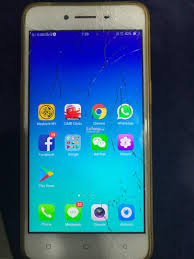oppo: (21, 4, 158, 257)
